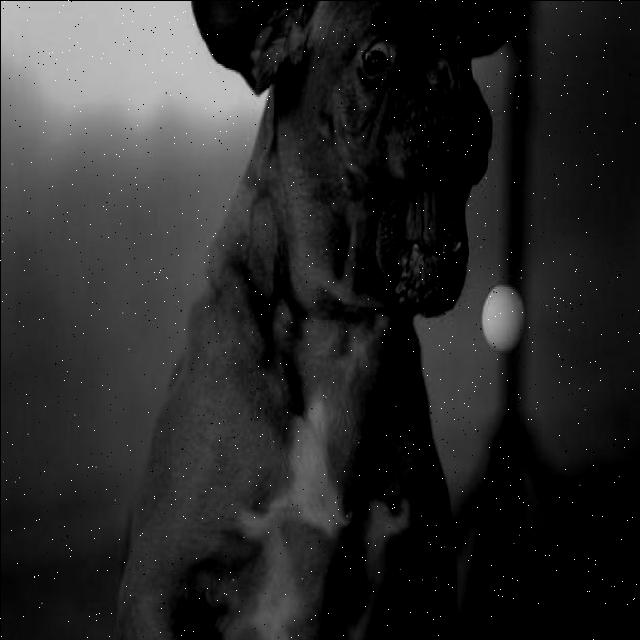ping-pong-ball: (481, 282, 525, 354)
